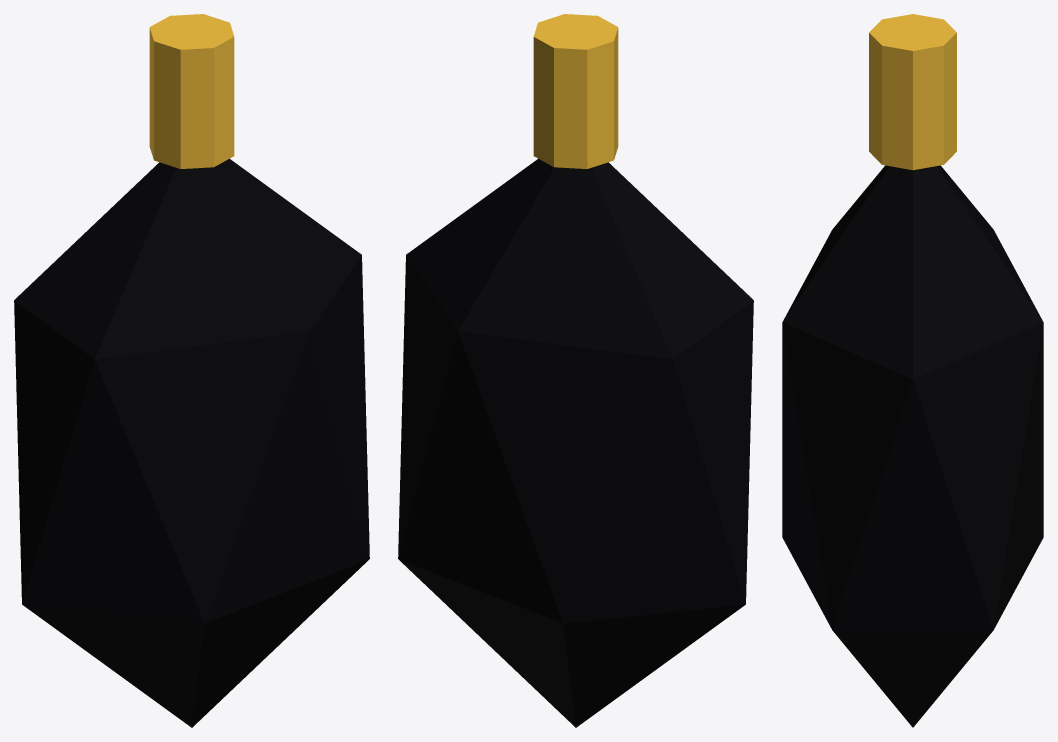
Rendered from Item_OR_Waterskin_01.glb.
3 views of the same model, side by side, from view 1: azimuth 30°, elevation 25°; view 2: azimuth 150°, elevation 25°; view 3: azimuth 270°, elevation 25° (orthographic).
Parts seen in each view (by area): view 1: Item_OR_Waterskin_01; view 2: Item_OR_Waterskin_01; view 3: Item_OR_Waterskin_01.
Boxes of the visible parts, x1,y1,x2,y2 form: Item_OR_Waterskin_01: (14, 14, 369, 727); Item_OR_Waterskin_01: (398, 14, 753, 727); Item_OR_Waterskin_01: (782, 14, 1043, 727).
Bounding box in the file's own units: 0.1789 × 0.35 × 0.1191.
